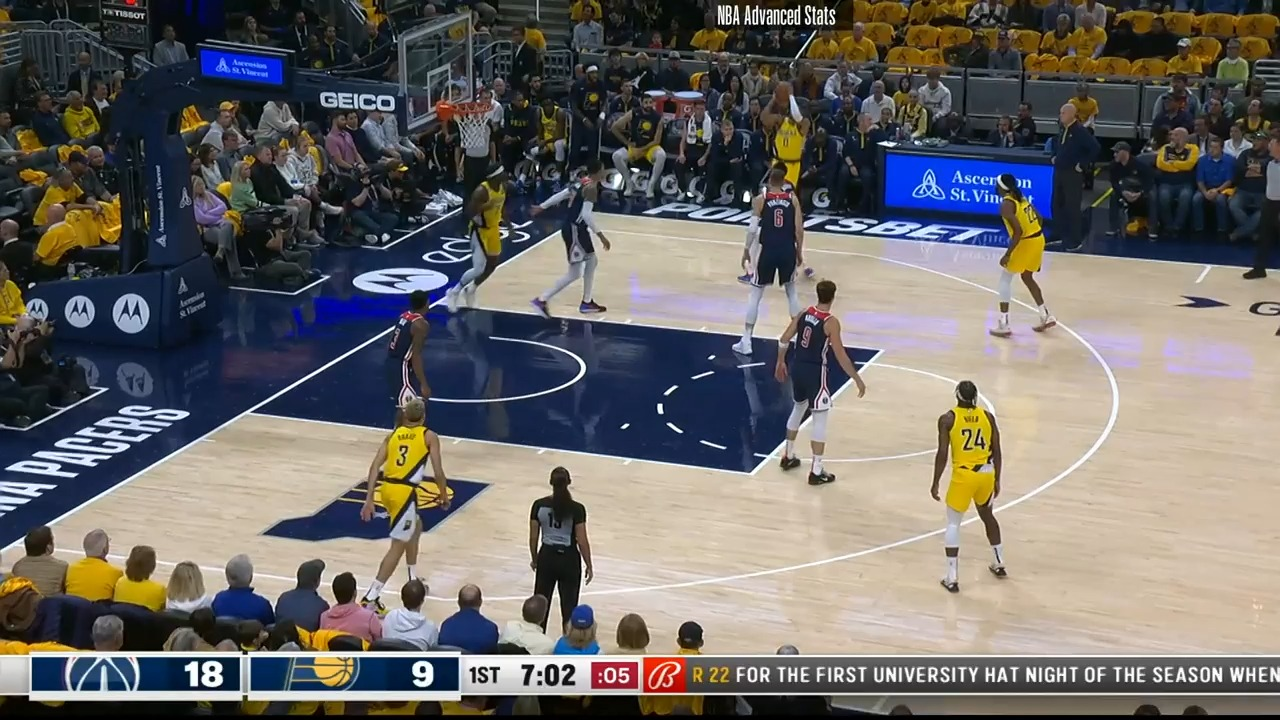net: (437, 97, 497, 152)
player: (774, 277, 867, 493), (364, 391, 454, 602), (929, 376, 1015, 593), (373, 292, 442, 517), (529, 157, 619, 323), (733, 162, 805, 358), (982, 169, 1051, 352), (445, 166, 510, 314), (761, 80, 810, 206)
referee: (525, 471, 596, 643), (455, 98, 502, 233), (1242, 130, 1280, 285)
